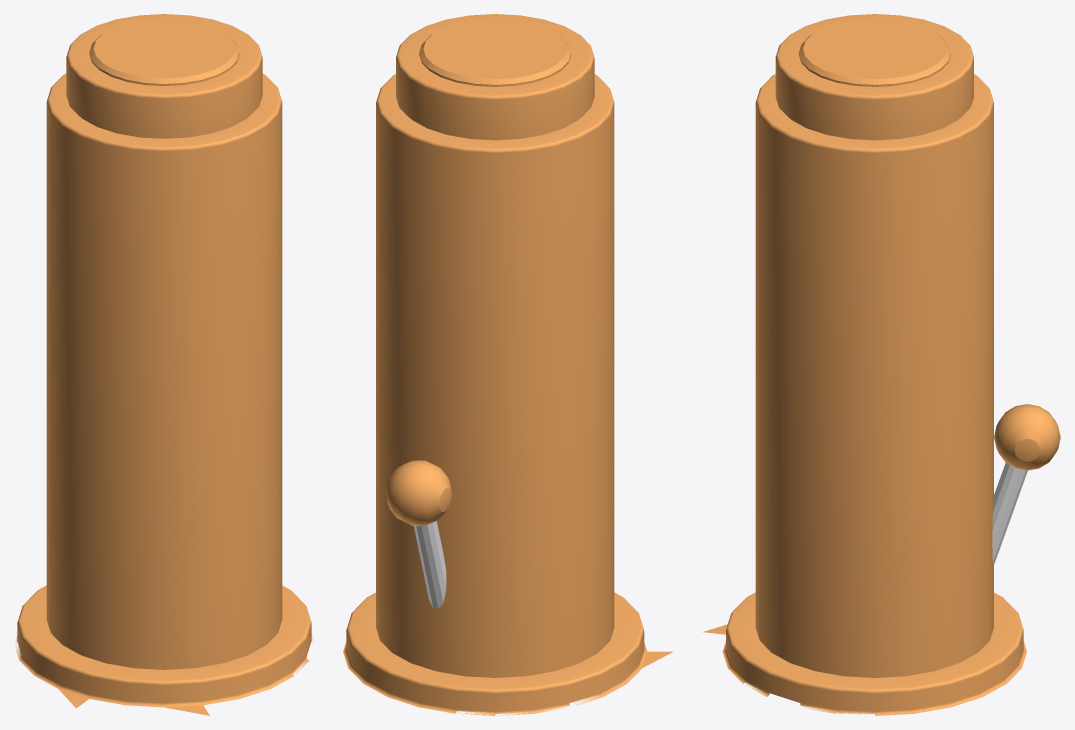
3 views of the same model, side by side, from view 1: azimuth 30°, elevation 25°; view 2: azimuth 150°, elevation 25°; view 3: azimuth 270°, elevation 25° (orthographic).
Bounding box in the file's own units: 0.2679 × 0.5907 × 0.3128.
